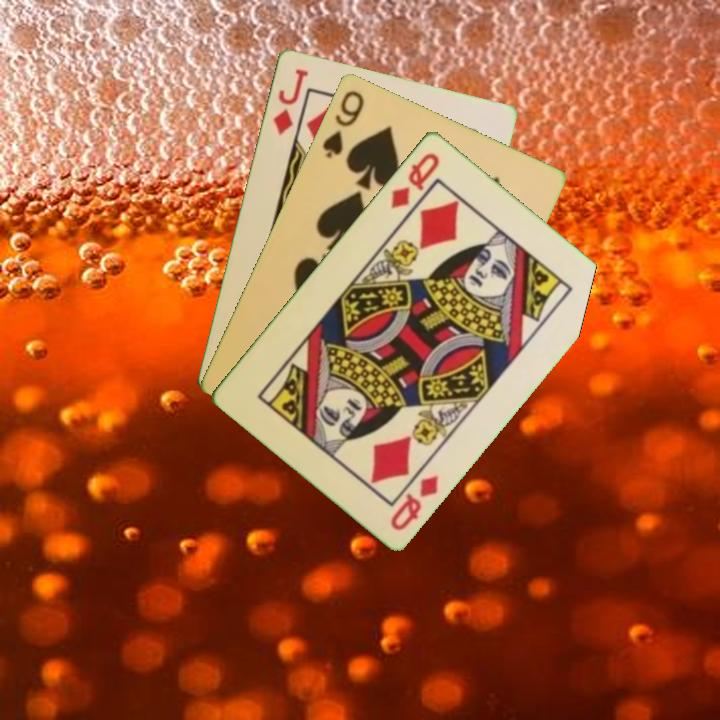9s: (318, 86, 367, 161)
Jd: (269, 64, 311, 138)
Qd: (386, 148, 443, 212), (386, 471, 442, 533)
